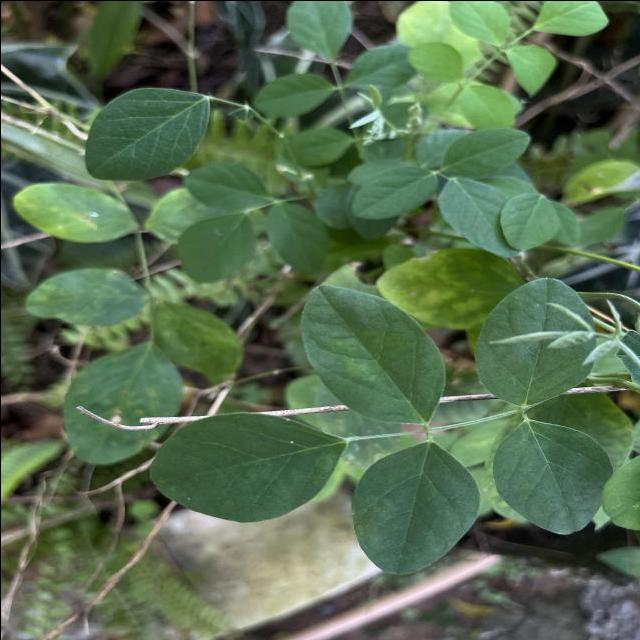Clitoria ternatea: (146, 409, 346, 523), (298, 282, 447, 424), (349, 438, 482, 576), (471, 275, 598, 407), (491, 418, 613, 535), (83, 85, 213, 182)
